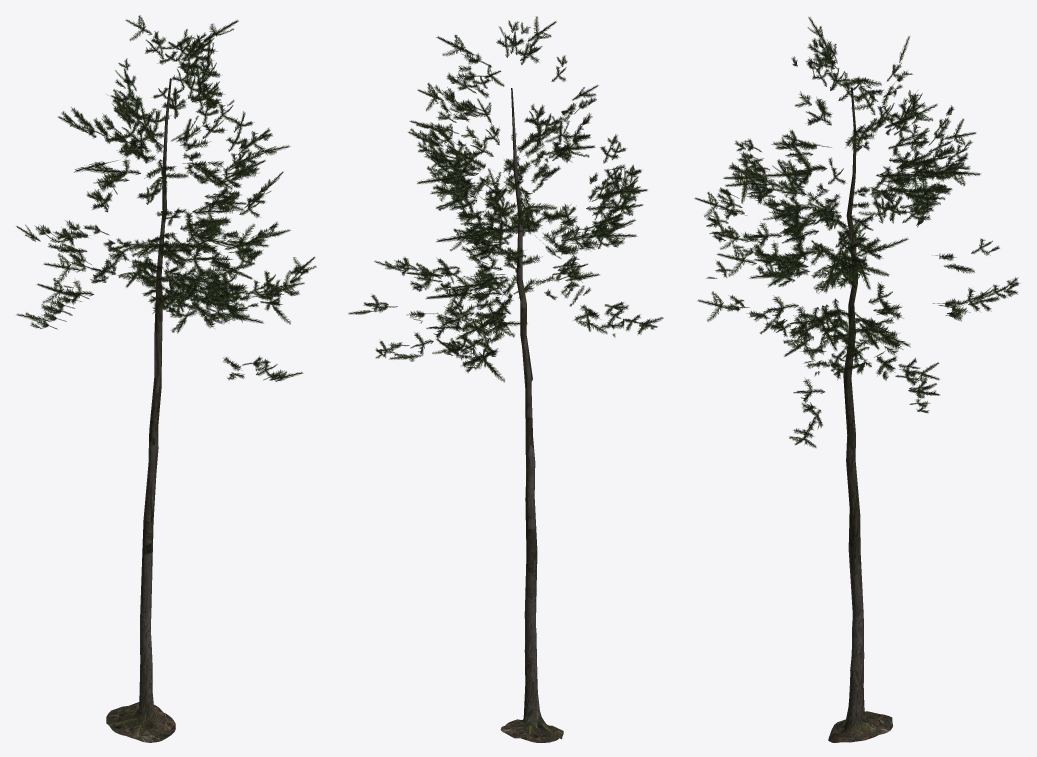
The model's file is fir_tree_01_c_far.glb.
3 views of the same model, side by side, from view 1: azimuth 30°, elevation 25°; view 2: azimuth 150°, elevation 25°; view 3: azimuth 270°, elevation 25° (orthographic). The views are drawn at different scales.
Parts seen in each view (by area): view 1: fir_tree_01_c_far; view 2: fir_tree_01_c_far; view 3: fir_tree_01_c_far.
Part boxes in pixels (left/top/right/bottom): fir_tree_01_c_far: left=16, top=15, right=316, bottom=742; fir_tree_01_c_far: left=348, top=16, right=663, bottom=742; fir_tree_01_c_far: left=694, top=17, right=1019, bottom=742.
Size of the model in its own units: 6.35 by 14.55 by 6.01.
Materials: 2 (2 with a texture image).
